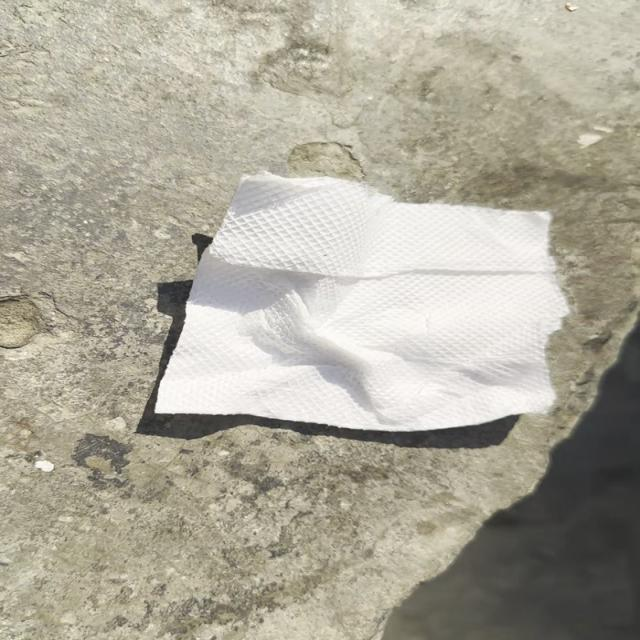tissue: (140, 169, 562, 430)
